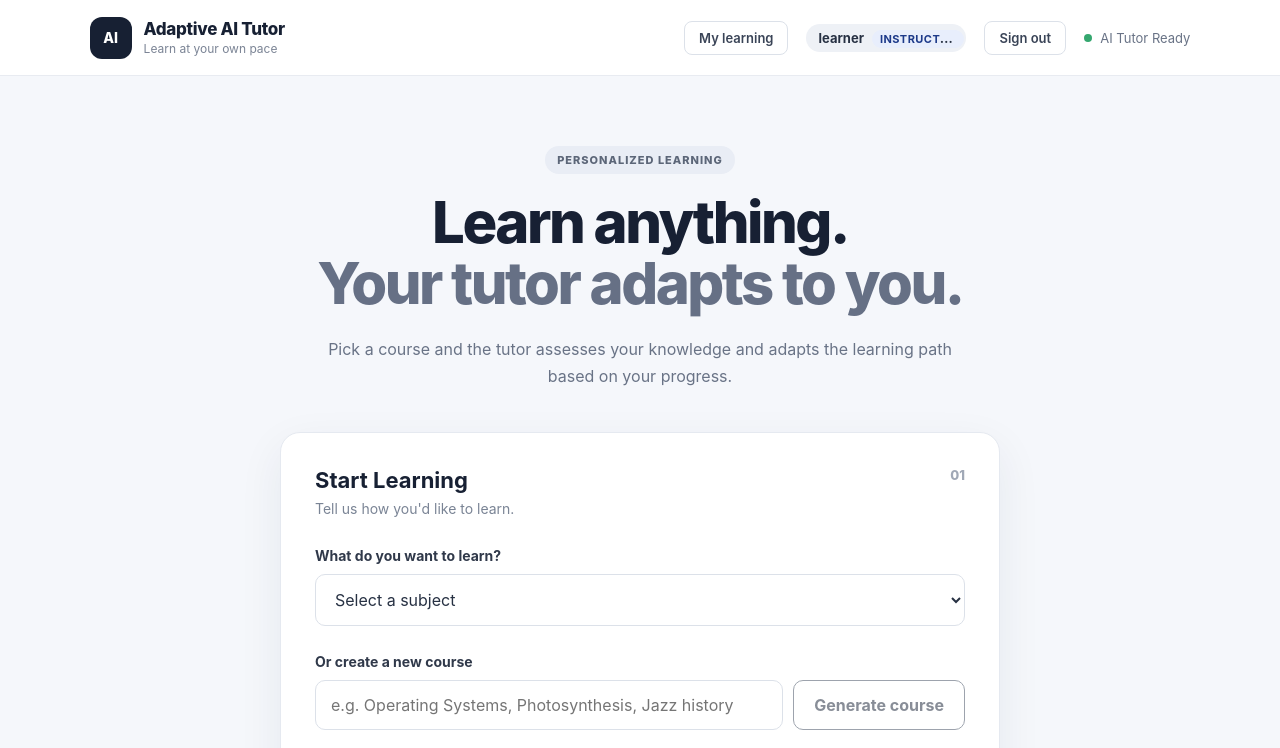
Test case: App › creates a course and selects it
The width and height of the screenshot is (1280, 748).
Type "Operating Systems" into the field labelled "Or create a new course" at point(549, 705), box top-left (315, 680), bottom-right (783, 730)
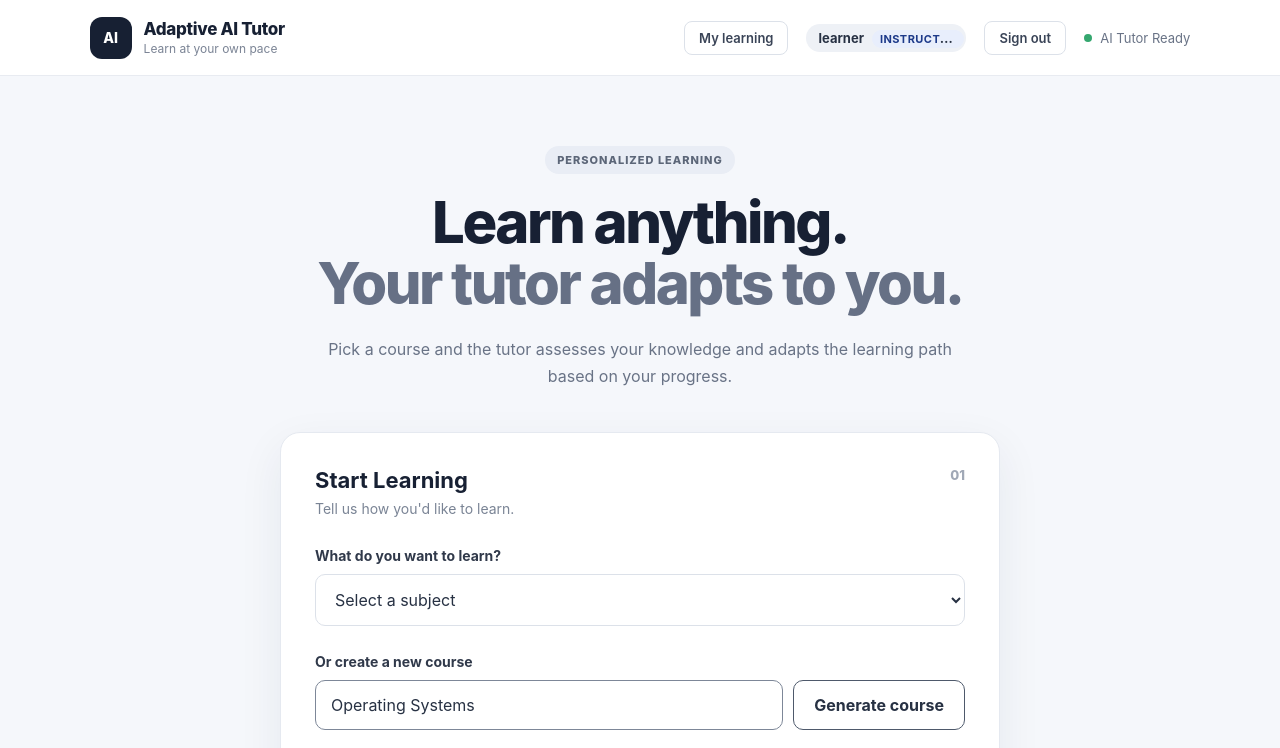
Click the button "Generate course" at point(879, 705), box top-left (793, 680), bottom-right (965, 730)
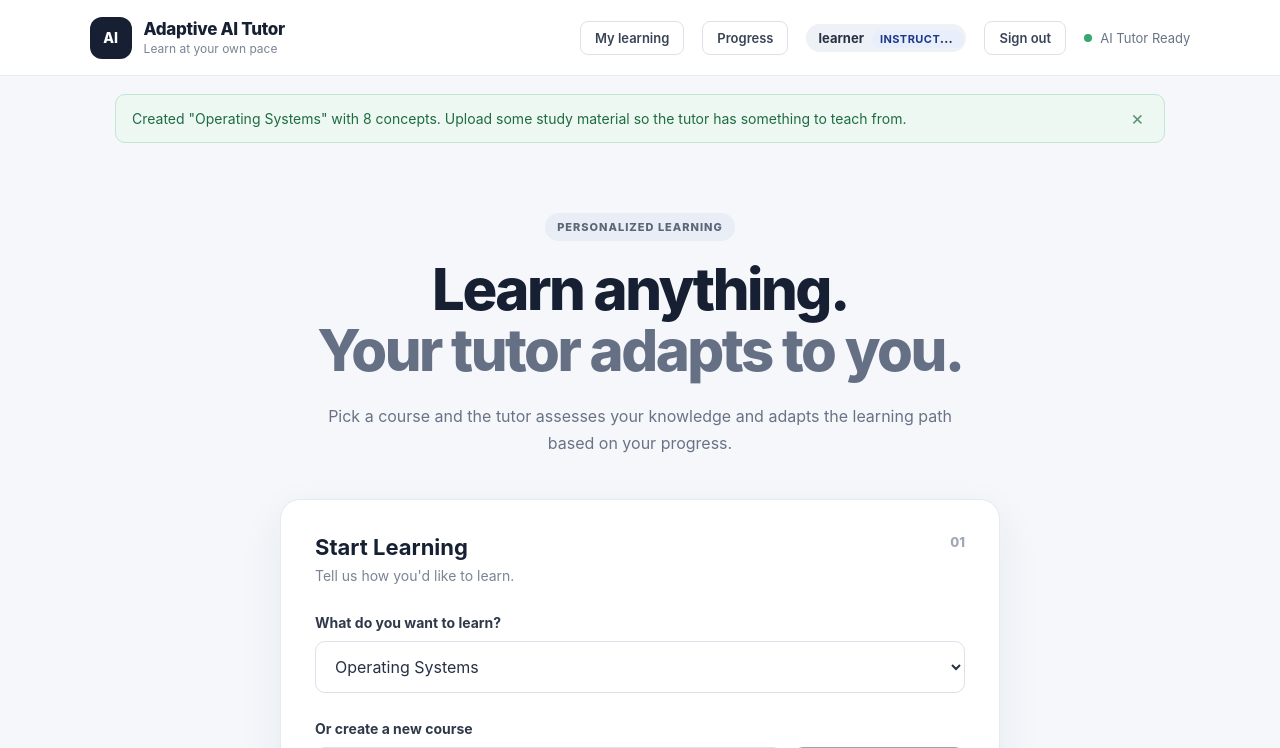
Now the 2nd message shows "Created \"Operating Systems\" with 8 concepts", box top-left (132, 110), bottom-right (906, 127)
Now the dropdown labelled "What do you want to learn?" shows "Operating Systems", box top-left (315, 641), bottom-right (965, 693)
